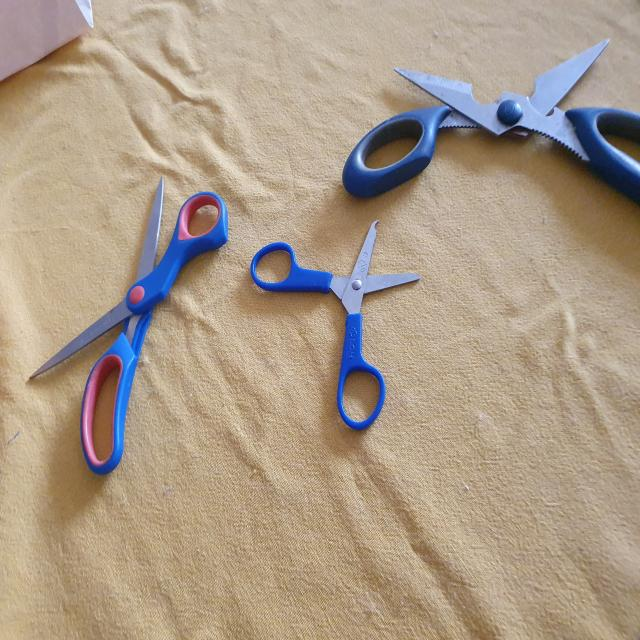scissors: (27, 176, 232, 479), (340, 35, 640, 202), (248, 219, 426, 438)
